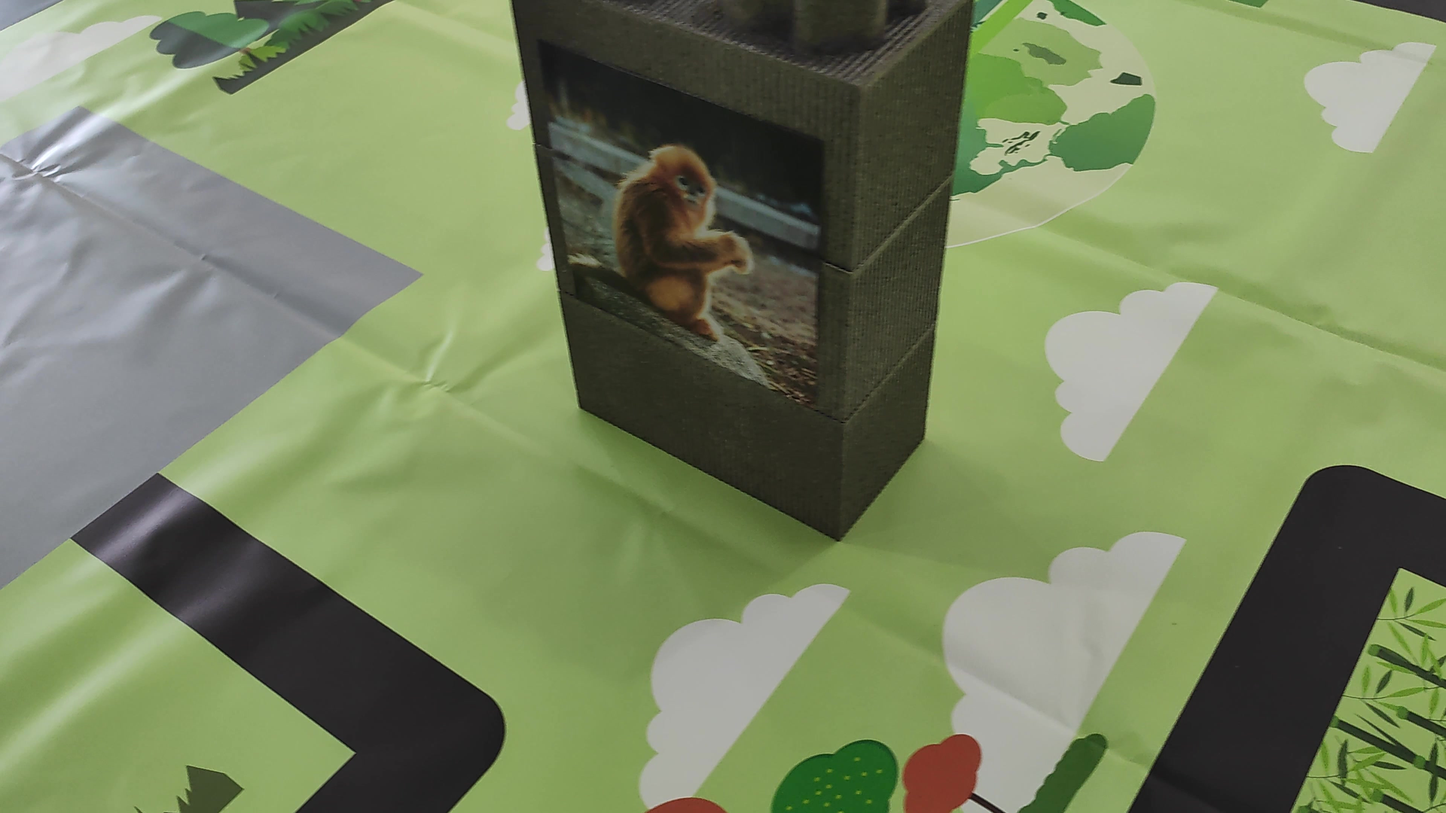monkey: (572, 126, 778, 316)
